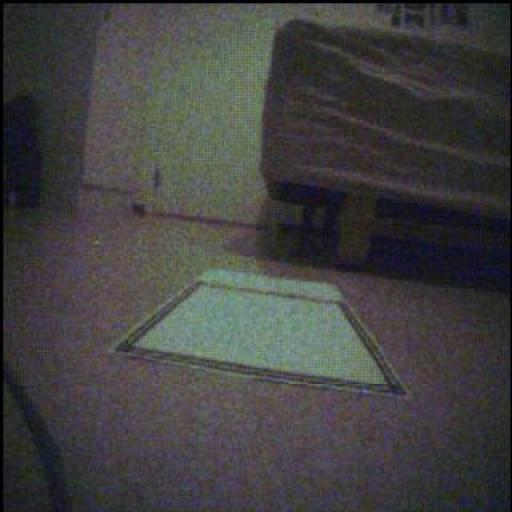pad: (116, 272, 406, 395)
